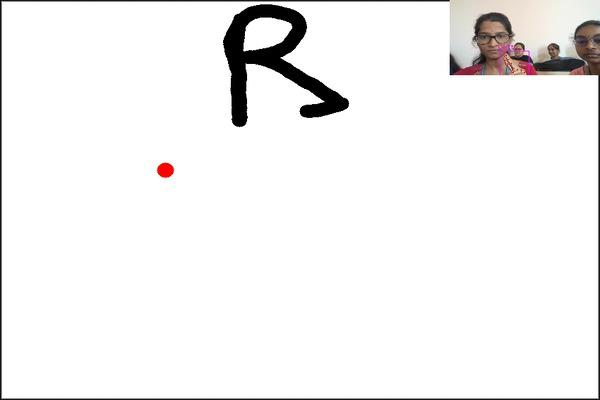R: (223, 2, 357, 121)
